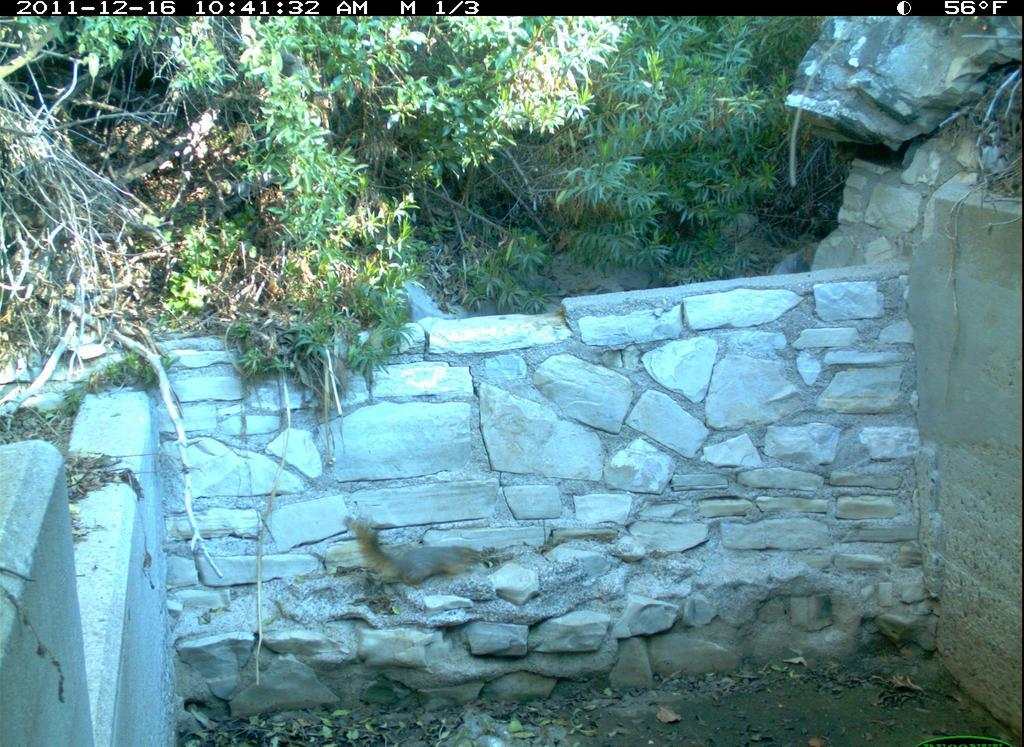squirrel: (331, 507, 510, 597)
